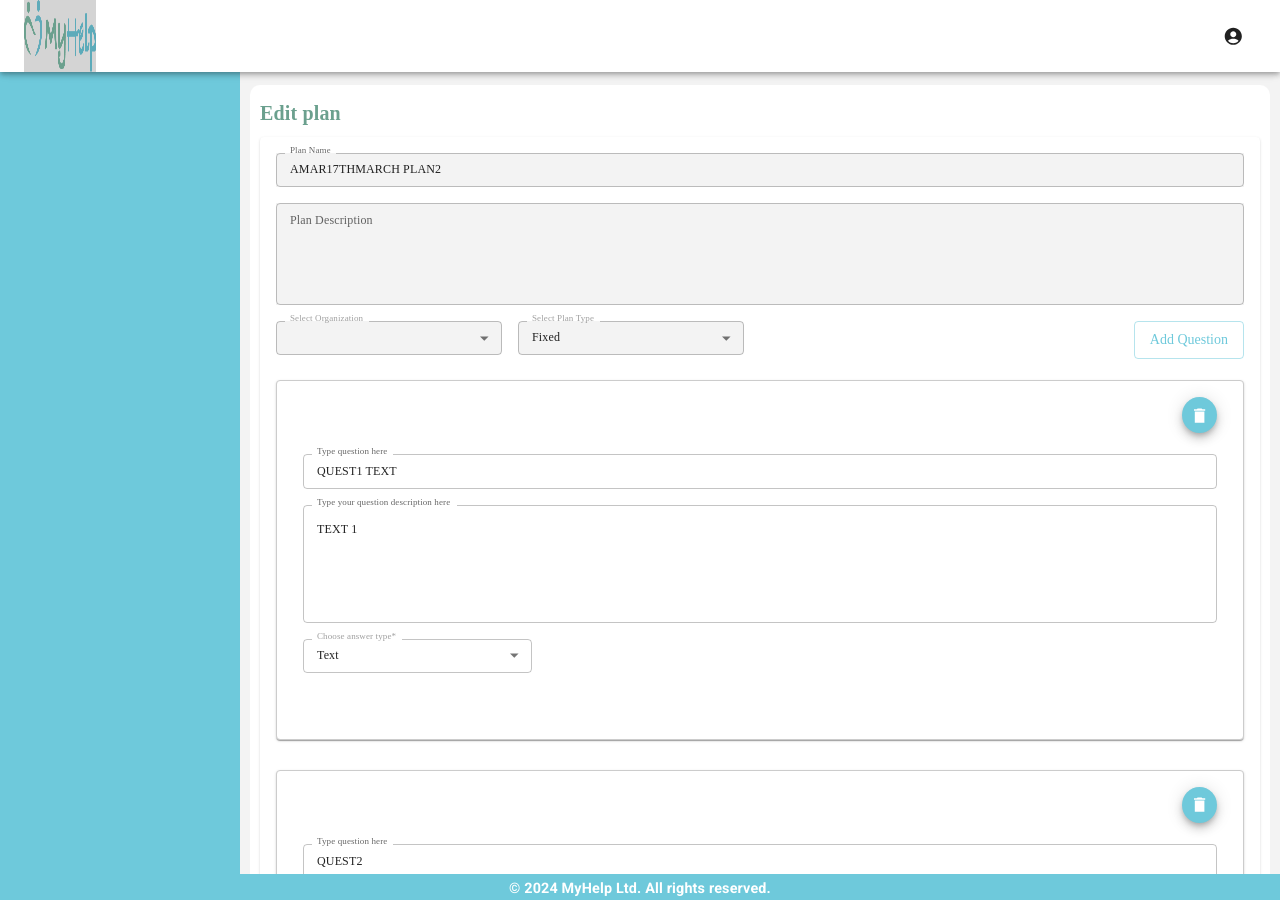
Admin safety plan list › should remove question box on press of delete confirm
The width and height of the screenshot is (1280, 900).
Click the button with test id "iconButtonQuestion_0".
click(1200, 415)  # box [1182,397,1217,433]
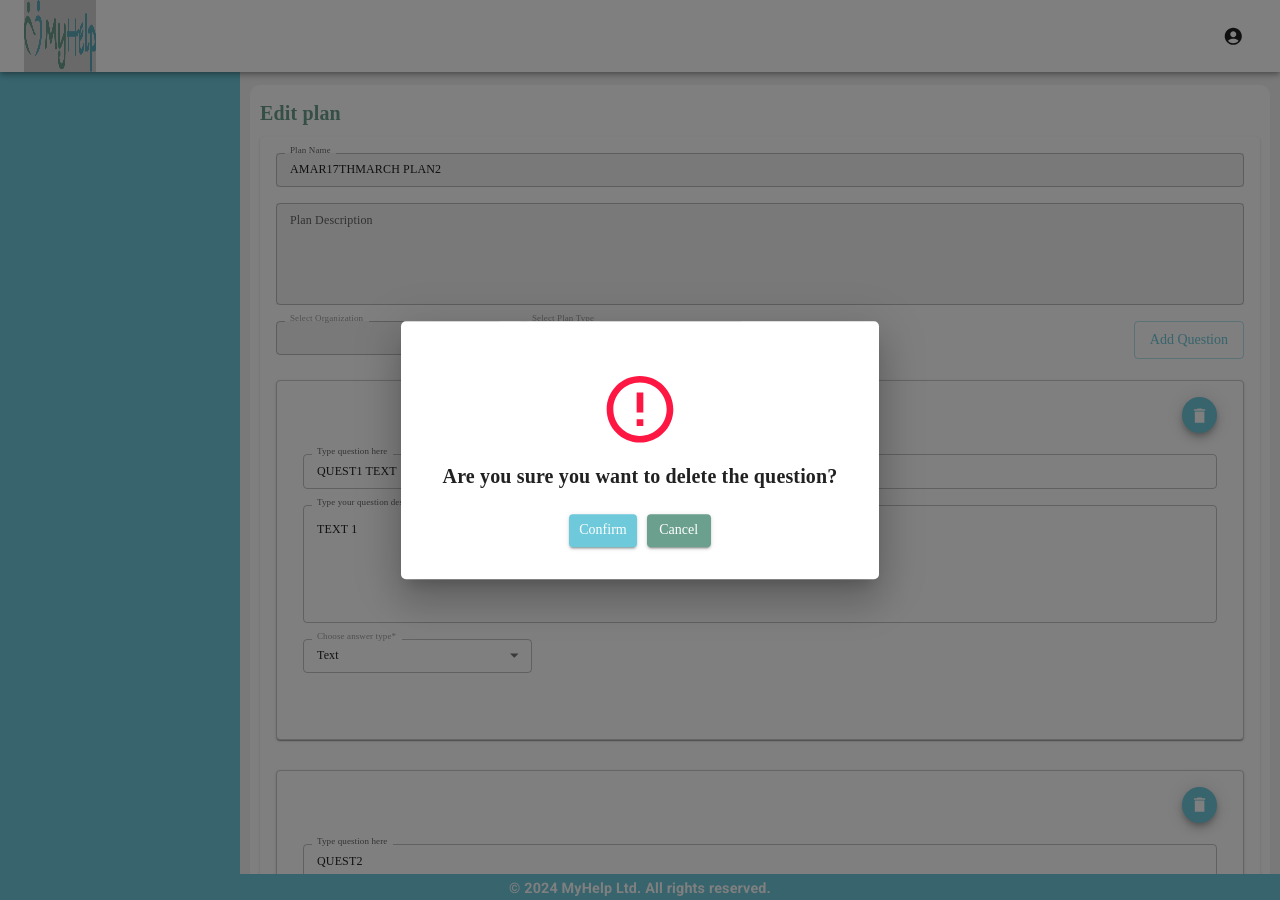
Now the button "Confirm" is shown
Click the button "Confirm".
click(603, 531)  # box [569,514,637,547]
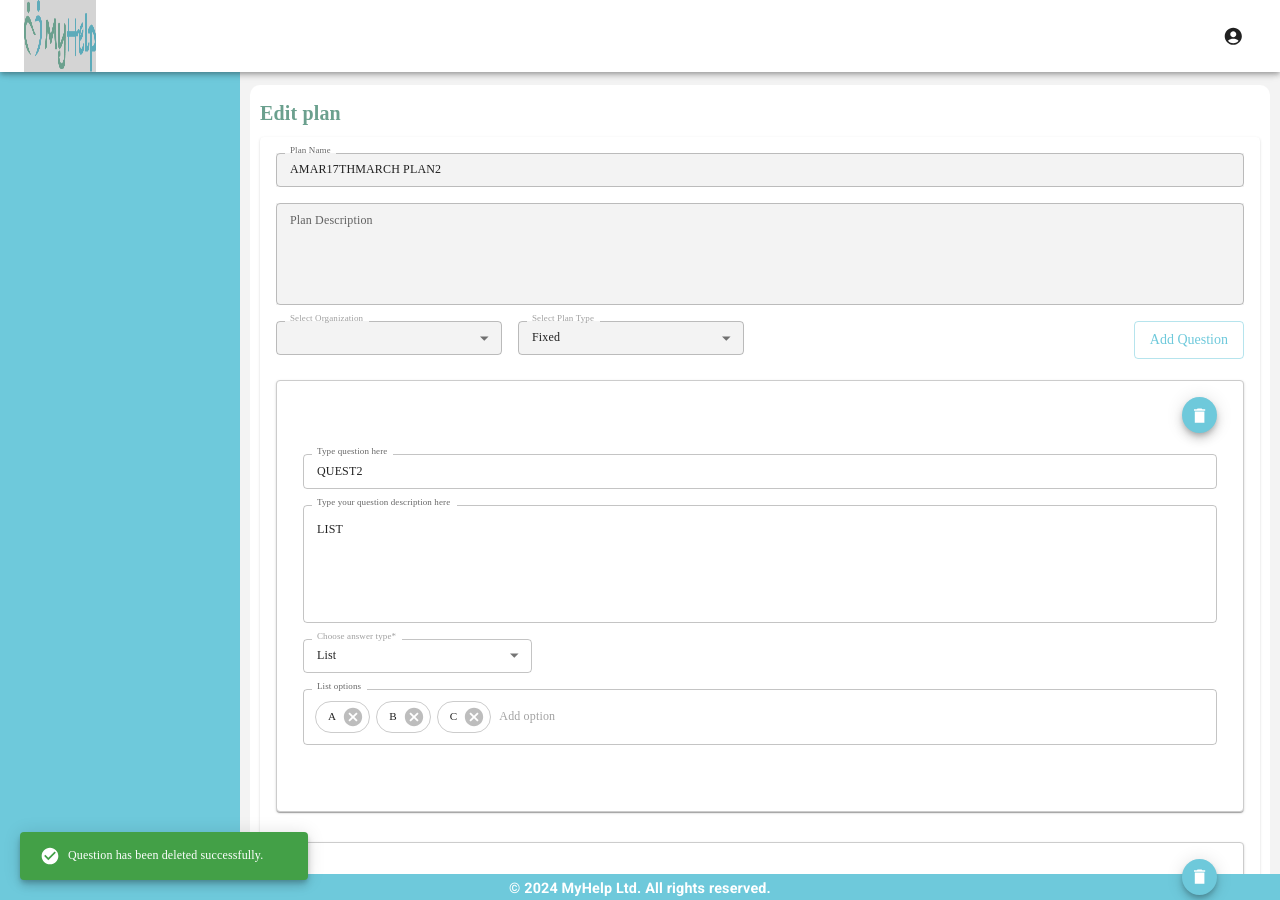
Now the text "Question has been deleted successfully." is shown, box [40,846,263,866]
